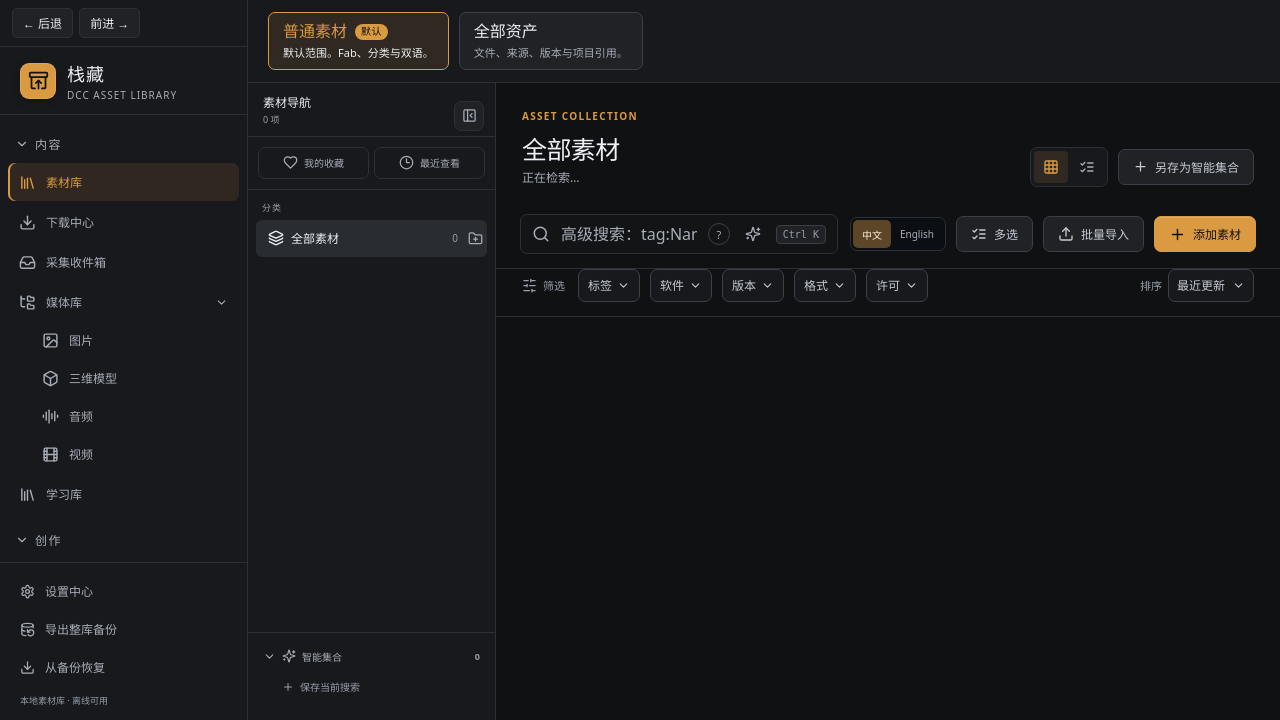
allows changing the asset view without leaving the library
Click the button named "列表视图" at (1087, 166), box [1070,150,1104,182]
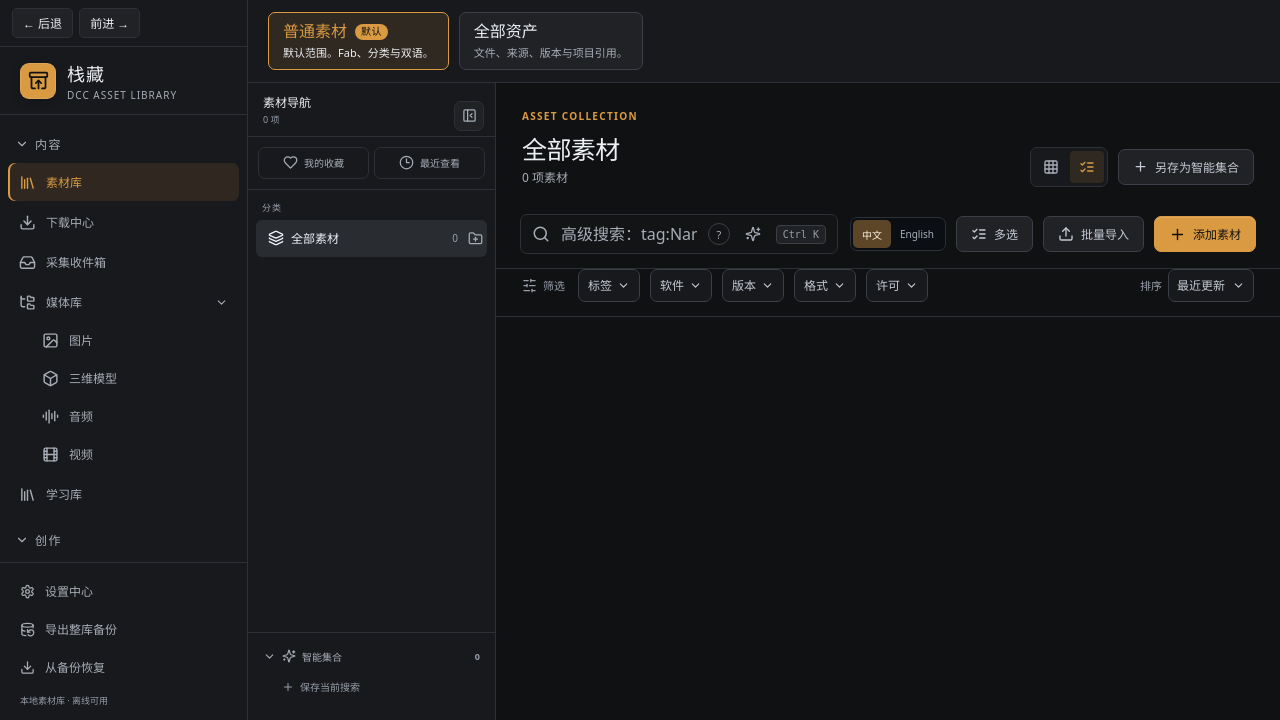
Expected: the button named "列表视图" is pressed, [1070,150,1104,182]
